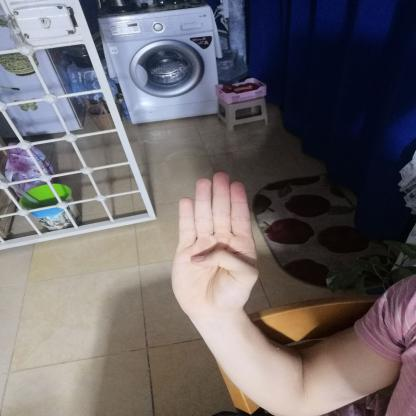KAAF: (154, 162, 275, 331)
